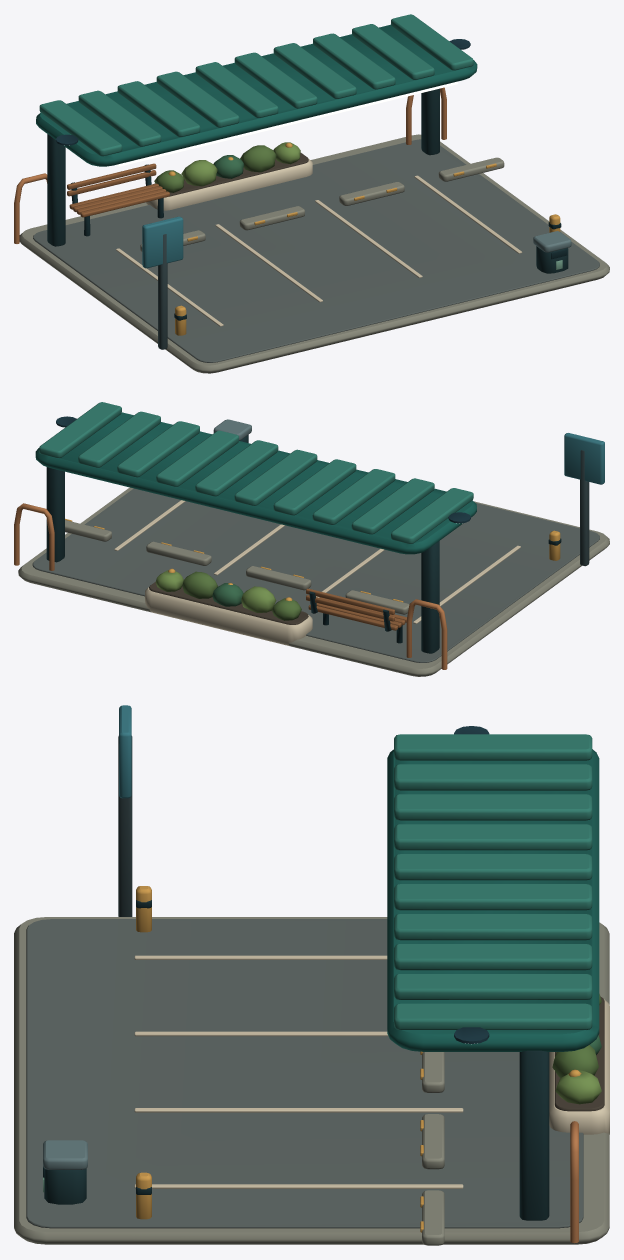
File: parking.glb
3 renders of one model, top to bottom at view 1: azimuth 30°, elevation 25°; view 2: azimuth 150°, elevation 25°; view 3: azimuth 270°, elevation 25°, orthographic. The views are drawn at different scales.
Parts seen in each view (by area): view 1: Parking; view 2: Parking; view 3: Parking.
Boxes of the visible parts, bbox=[...] form: Parking: bbox=[14, 14, 609, 373]; Parking: bbox=[14, 402, 609, 676]; Parking: bbox=[14, 705, 609, 1245].
Size of the model in its own units: 8.45 by 2.37 by 6.08.
